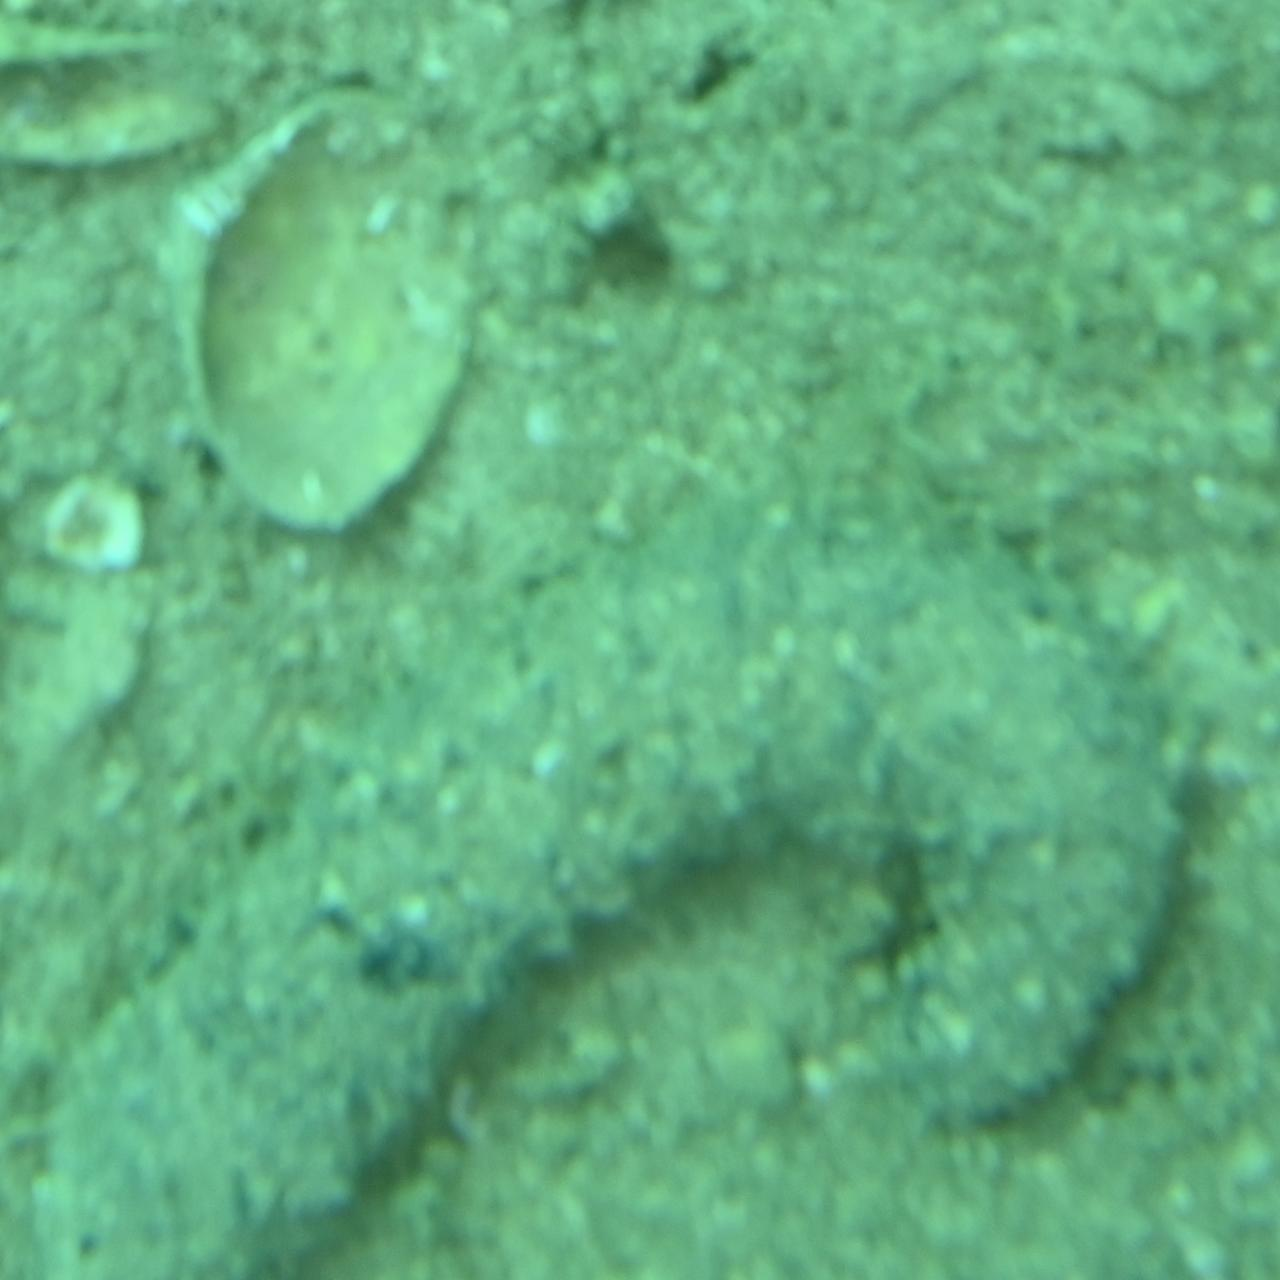Holothuria tubulosa: (73, 500, 1207, 1279)
